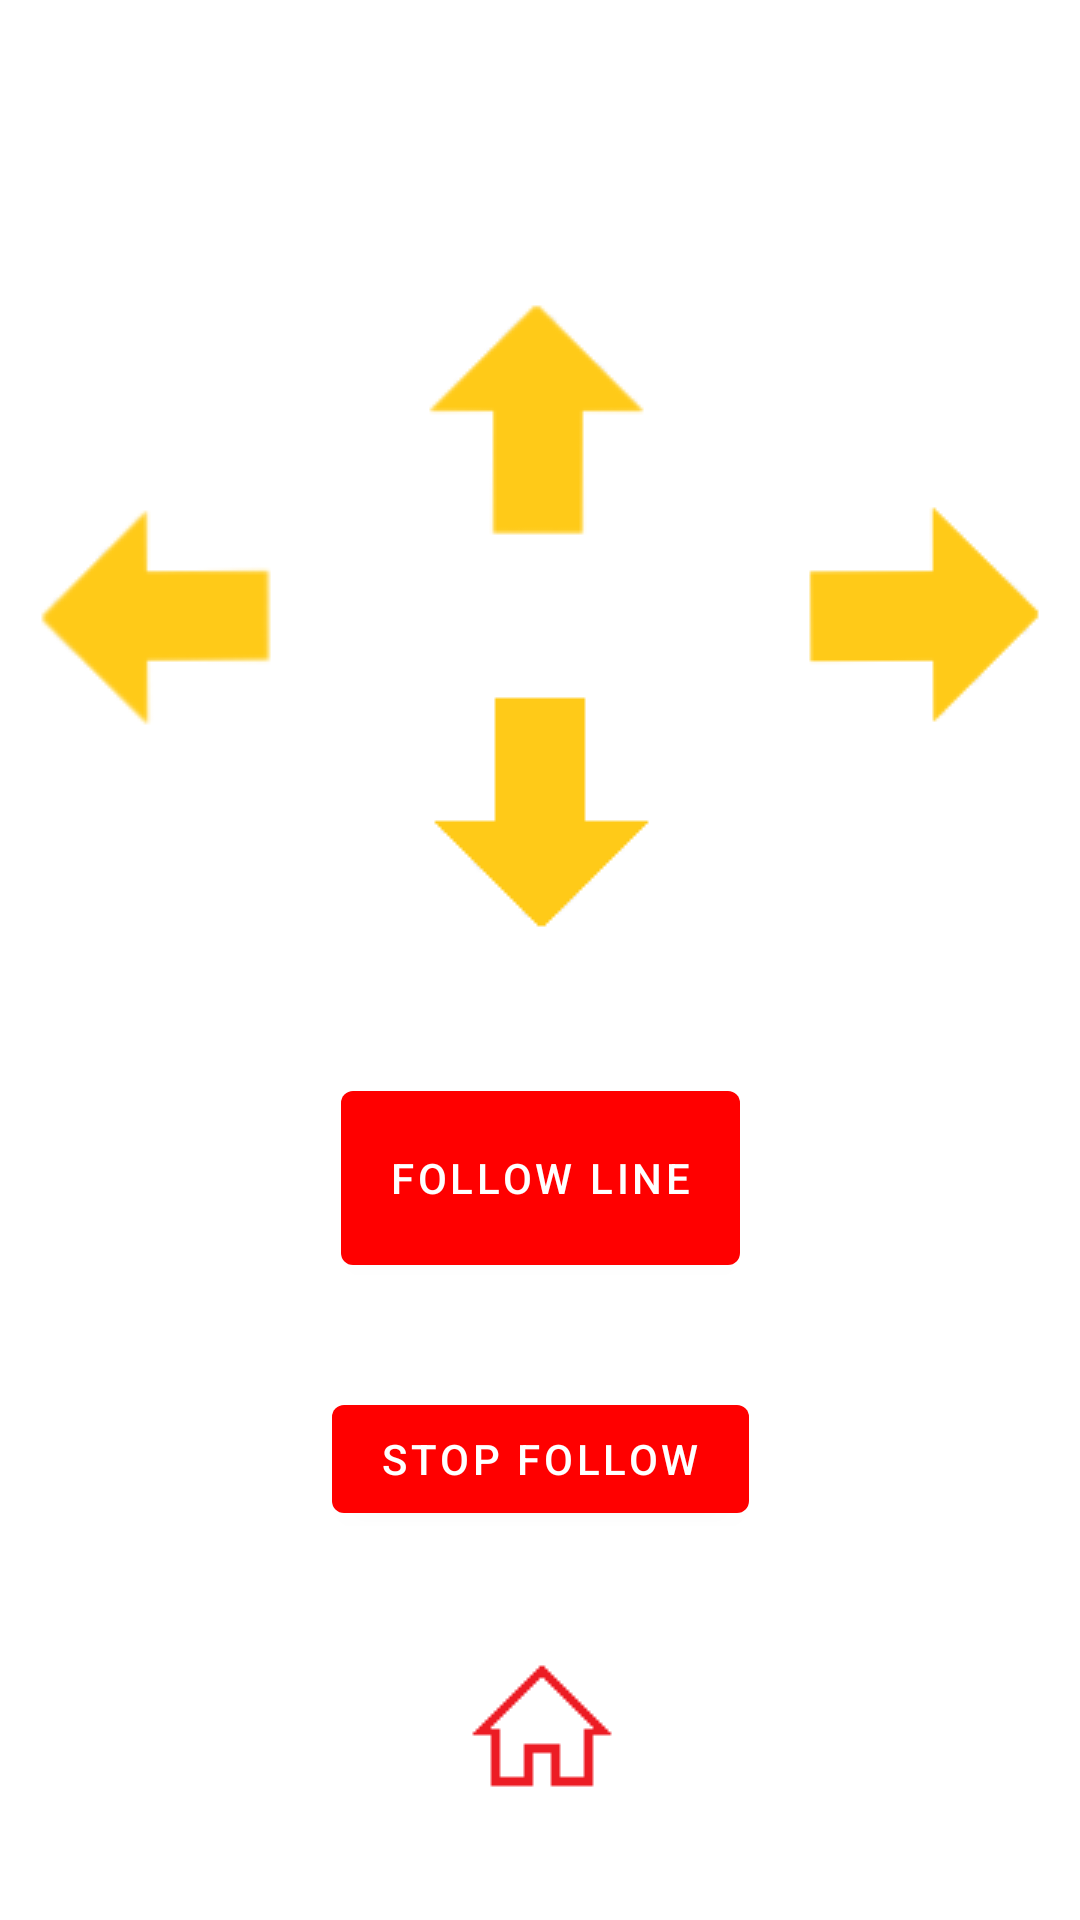

Point at icon controls on the screen. Image size 1080x1920, points as (x,y).
down arrow: (541,812)
left arrow: (156,617)
right arrow: (924,614)
up arrow: (536,420)
